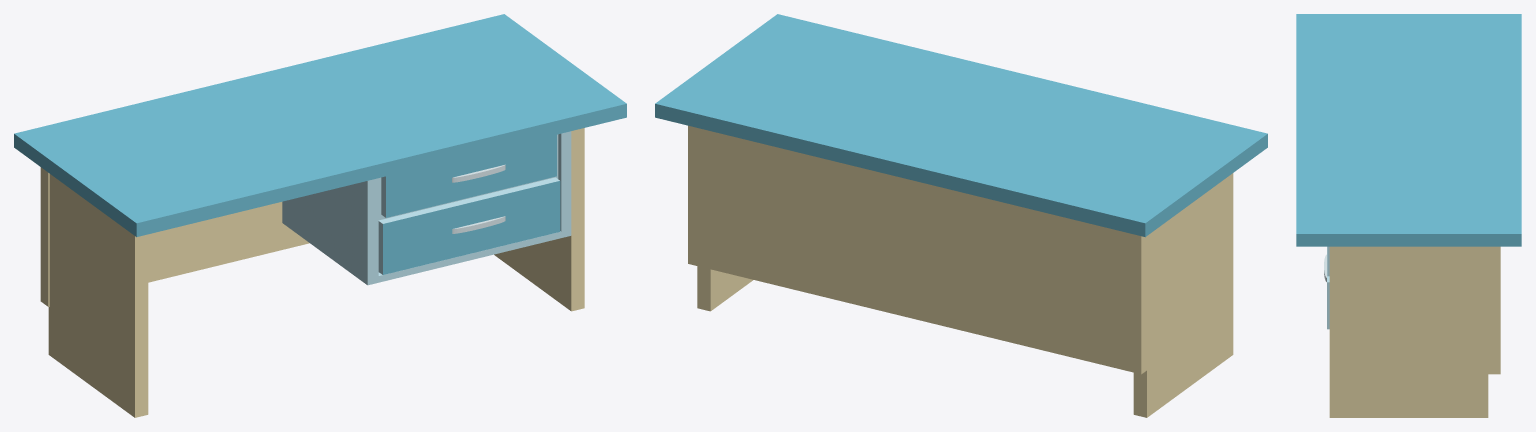
The model's file is MejaGuru.fbx.
3 renders of one model, left to right at view 1: azimuth 30°, elevation 25°; view 2: azimuth 150°, elevation 25°; view 3: azimuth 270°, elevation 25°, orthographic. The views are drawn at different scales.
Visible parts, largest first — view 1: Cube.002; view 2: Cube.002; view 3: Cube.002.
Part boxes in pixels (box(x1,y1,x2,y2)): Cube.002: box(14, 14, 626, 417); Cube.002: box(655, 14, 1267, 417); Cube.002: box(1296, 14, 1521, 417).
Size of the model in its own units: 248 by 102 by 107.
